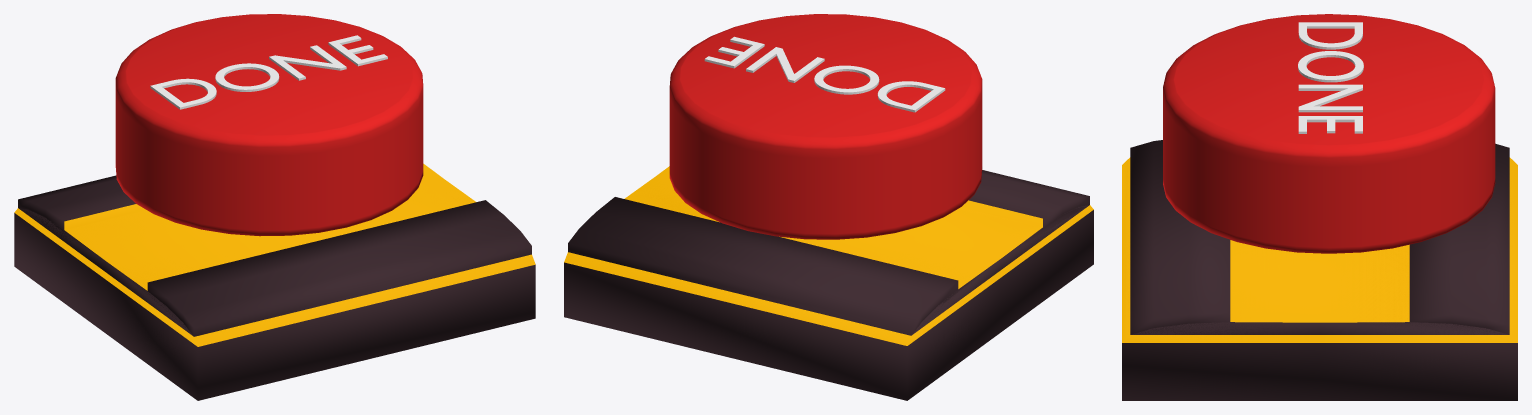
Rendered from done button.fbx.
The picture shows the model from 3 angles, left to right: view 1: azimuth 30°, elevation 25°; view 2: azimuth 150°, elevation 25°; view 3: azimuth 270°, elevation 25°; orthographic projection. The views are drawn at different scales.
Parts seen in each view (by area): view 1: button base, Button; view 2: button base, Button; view 3: button base, Button.
Part boxes in pixels (x1,y1,x2,y2): button base: [14, 163, 535, 400]; Button: [115, 14, 423, 236]; button base: [564, 166, 1093, 400]; Button: [669, 14, 982, 239]; button base: [1122, 140, 1517, 400]; Button: [1163, 14, 1495, 253].
Size of the model in its own units: 253 by 156 by 238.
